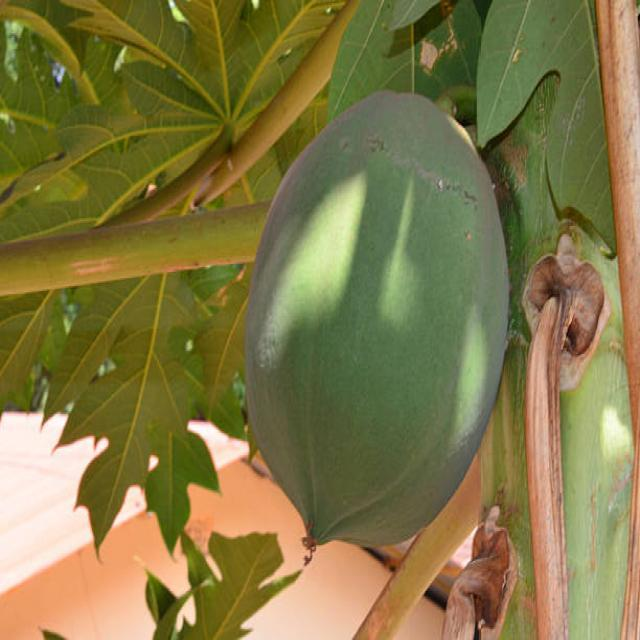Pepaya unrippen: (226, 85, 526, 563)
